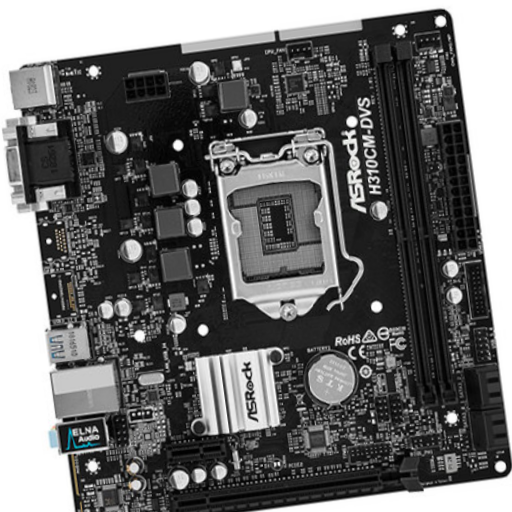CPU: (207, 125, 343, 320)
GPU: (170, 455, 424, 510)
MOTHERBOARD: (16, 9, 510, 512)
RAM: (372, 41, 459, 410)
